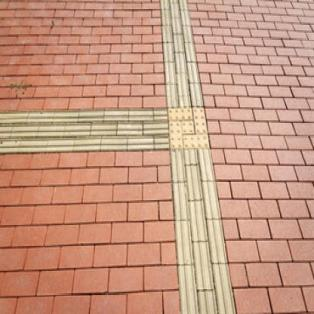Podoctatil: (3, 0, 243, 314)
